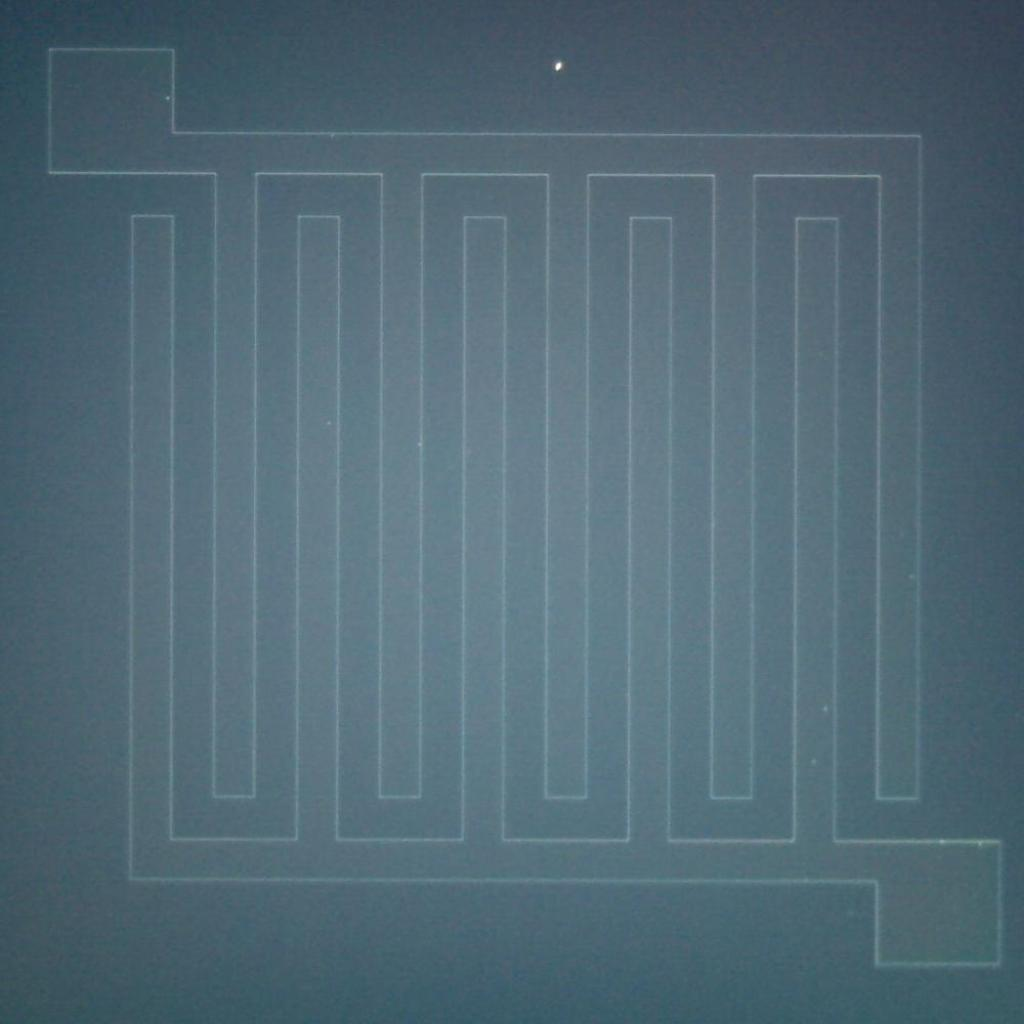dot: (555, 63, 561, 70), (326, 420, 332, 426), (810, 758, 816, 764), (823, 706, 828, 711), (166, 96, 170, 100), (330, 134, 334, 138), (978, 842, 982, 846)
